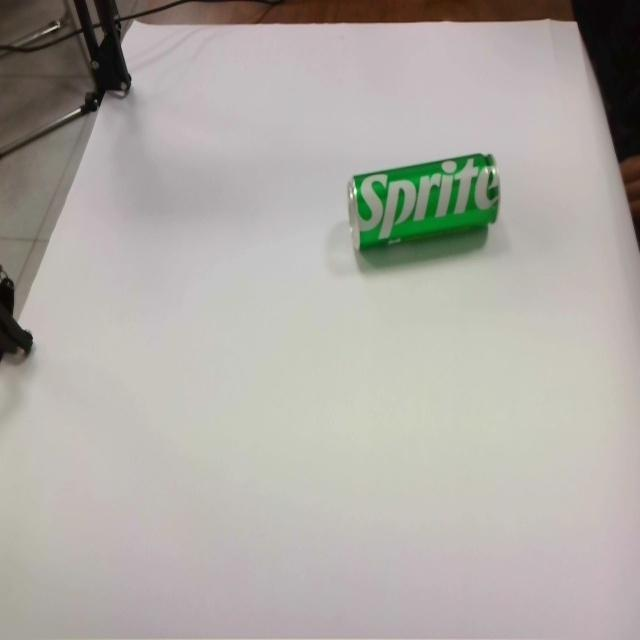debris: (346, 151, 502, 255)
